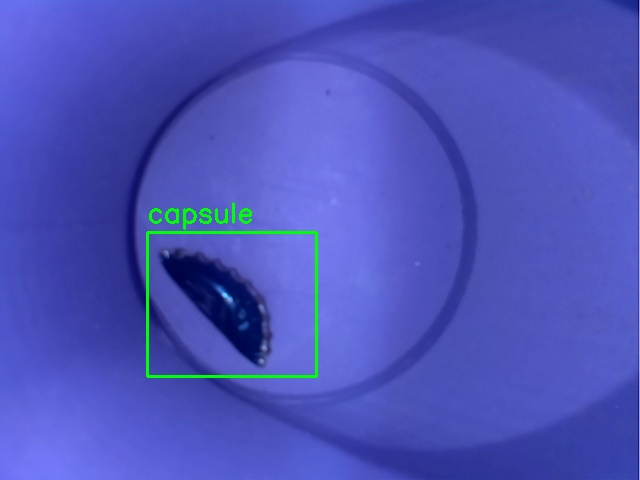capsule: (147, 232, 316, 376)
